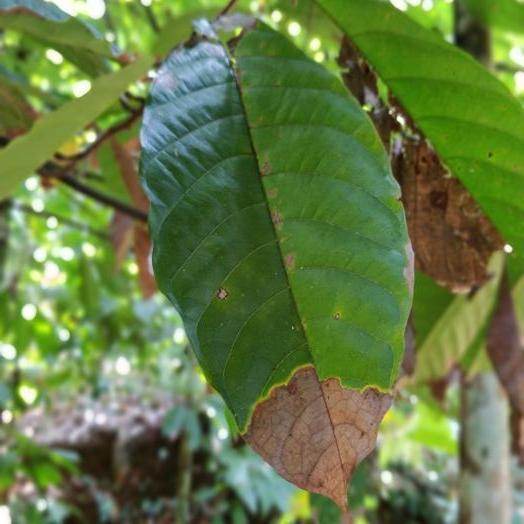Potassium: (141, 22, 412, 505), (315, 0, 523, 291)
